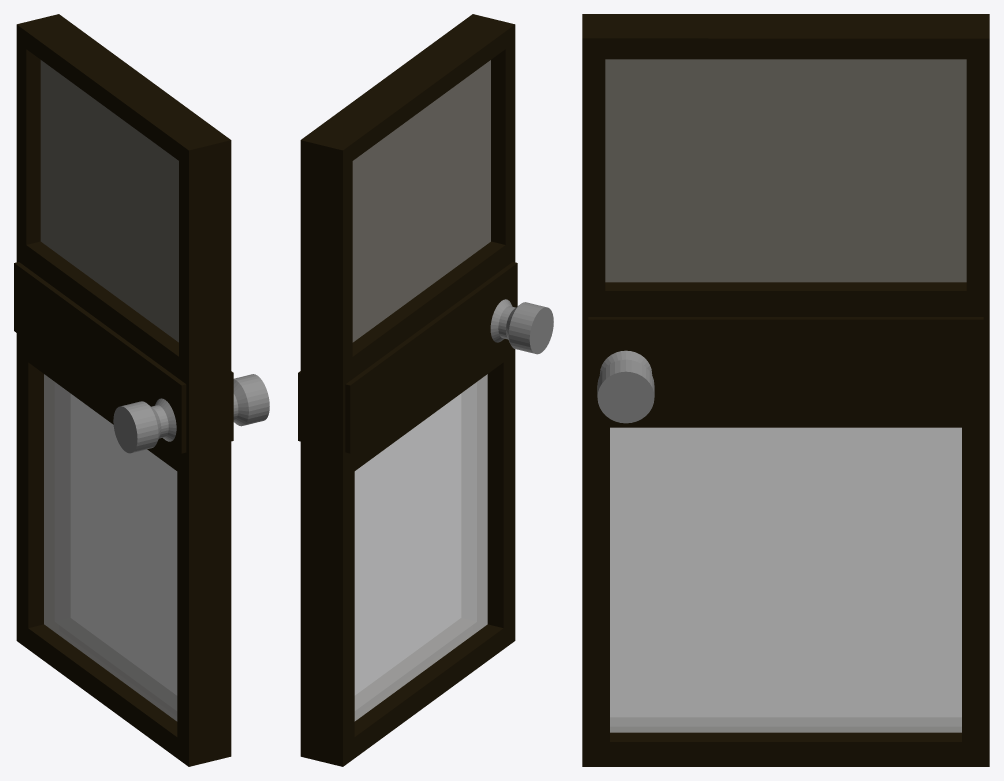
The model's file is door.fbx.
The picture shows the model from 3 angles, left to right: view 1: azimuth 30°, elevation 25°; view 2: azimuth 150°, elevation 25°; view 3: azimuth 270°, elevation 25°; orthographic projection. The views are drawn at different scales.
Visible parts, largest first — view 1: Kostka; view 2: Kostka; view 3: Kostka.
Part boxes in pixels (x1=…): Kostka: x1=14, y1=14, x2=269, y2=766; Kostka: x1=298, y1=14, x2=553, y2=766; Kostka: x1=582, y1=14, x2=989, y2=766.
Size of the model in its own units: 633 by 2819 by 1428.
